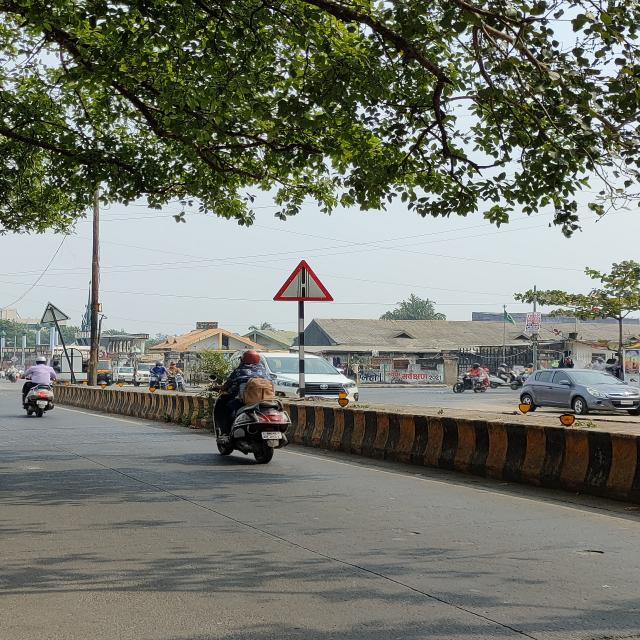GAP_IN_MEDIAN: (273, 260, 334, 302)
